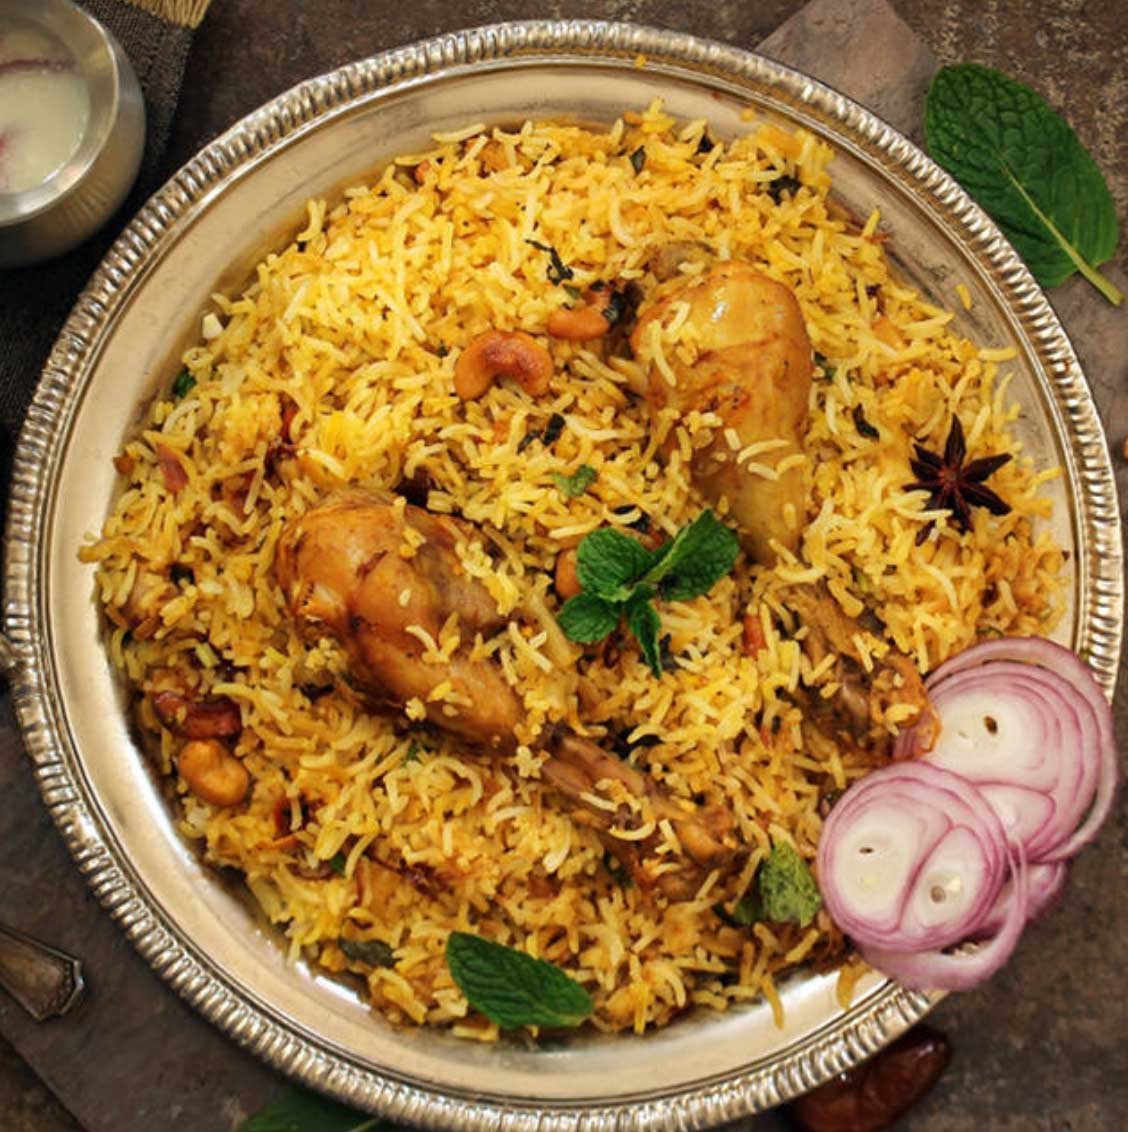Biryani: (91, 81, 1065, 1015)
